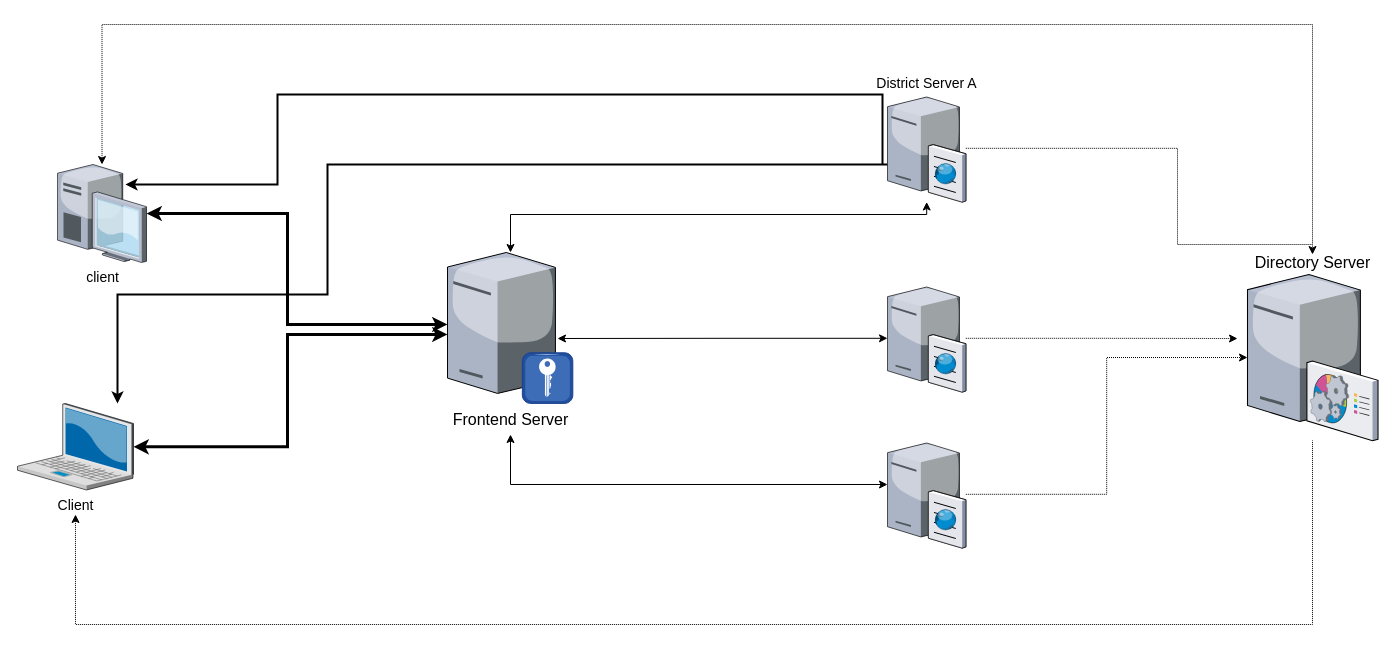
Some shapes in this 1395 by 650 pixel diagram are drawn without their labels. Here are the shapes that lost their labels. From the top down, the centre of each, then its label:
point 926,338: District Server B
point 926,494: District Server C
